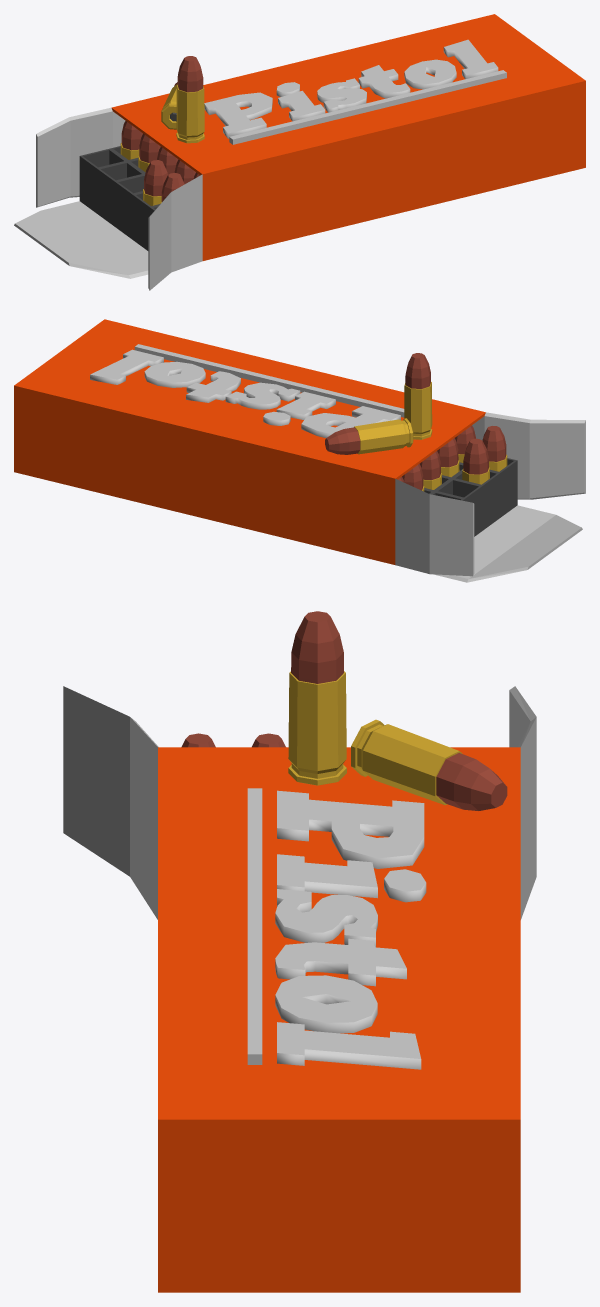
Rendered from Ammo_Pack_Pistol.glb.
3 views of the same model, one above another, from view 1: azimuth 30°, elevation 25°; view 2: azimuth 150°, elevation 25°; view 3: azimuth 270°, elevation 25° (orthographic). The views are drawn at different scales.
Visible parts, largest first — view 1: Ammo_Pack_Pistol; view 2: Ammo_Pack_Pistol; view 3: Ammo_Pack_Pistol.
Boxes of the visible parts, <box> form: Ammo_Pack_Pistol: <box>14,14,585,290</box>; Ammo_Pack_Pistol: <box>14,319,585,582</box>; Ammo_Pack_Pistol: <box>63,611,536,1292</box>.
Size of the model in its own units: 0.1951 by 0.0622 by 0.0806.
1 material, 1 textured.
